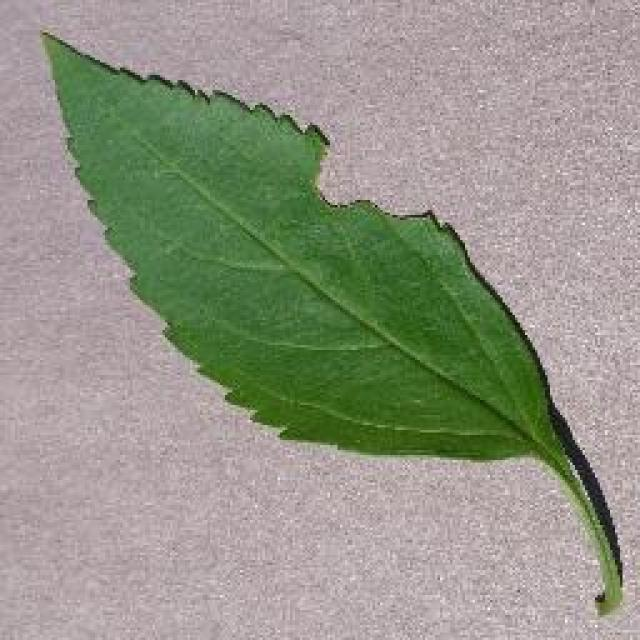Cherry___healthy: (35, 18, 630, 630)
